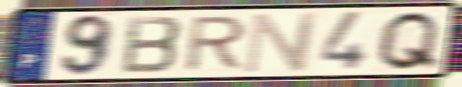4: (317, 8, 370, 75)
9: (60, 12, 118, 79)
B: (119, 14, 187, 76)
N: (241, 10, 322, 75)
Q: (373, 9, 444, 73)
R: (180, 14, 252, 74)
